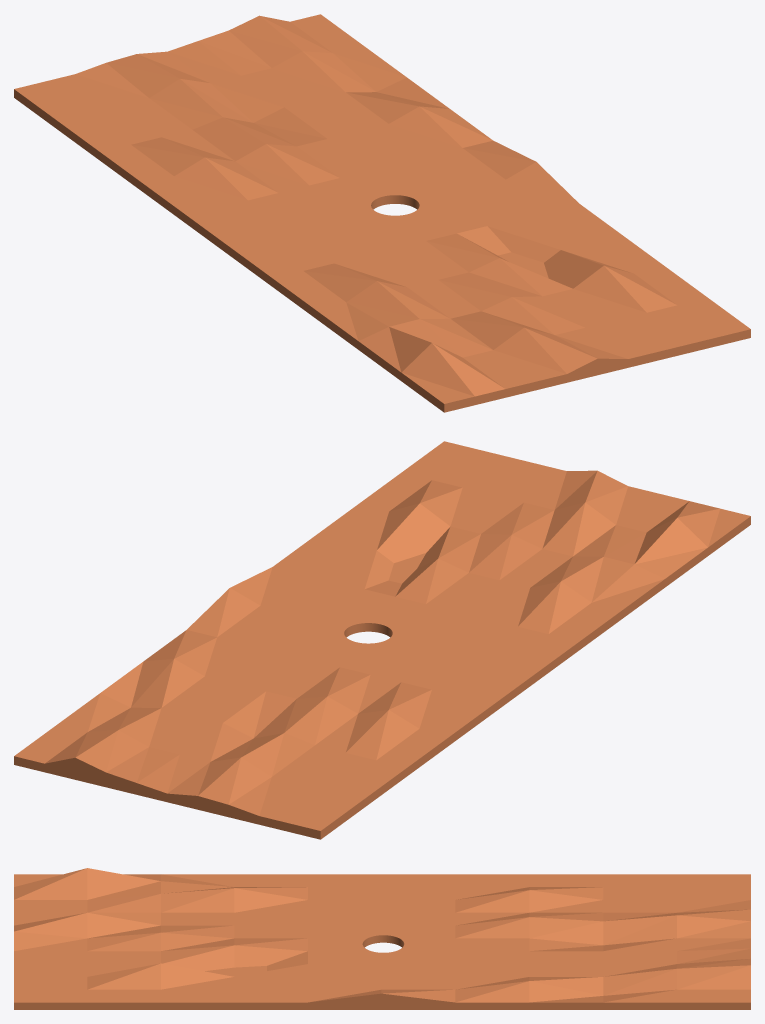
File: floor.fbx
The picture shows the model from 3 angles, top to bottom: view 1: azimuth 30°, elevation 25°; view 2: azimuth 150°, elevation 25°; view 3: azimuth 270°, elevation 25°; orthographic projection. The views are drawn at different scales.
Parts seen in each view (by area): view 1: Cube.001; view 2: Cube.001; view 3: Cube.001.
Boxes of the visible parts, x1,y1,x2,y2 form: Cube.001: [14, 14, 750, 412]; Cube.001: [14, 441, 750, 839]; Cube.001: [14, 868, 750, 1009].
Bounding box in the file's own units: 3991 × 471 × 9697.
